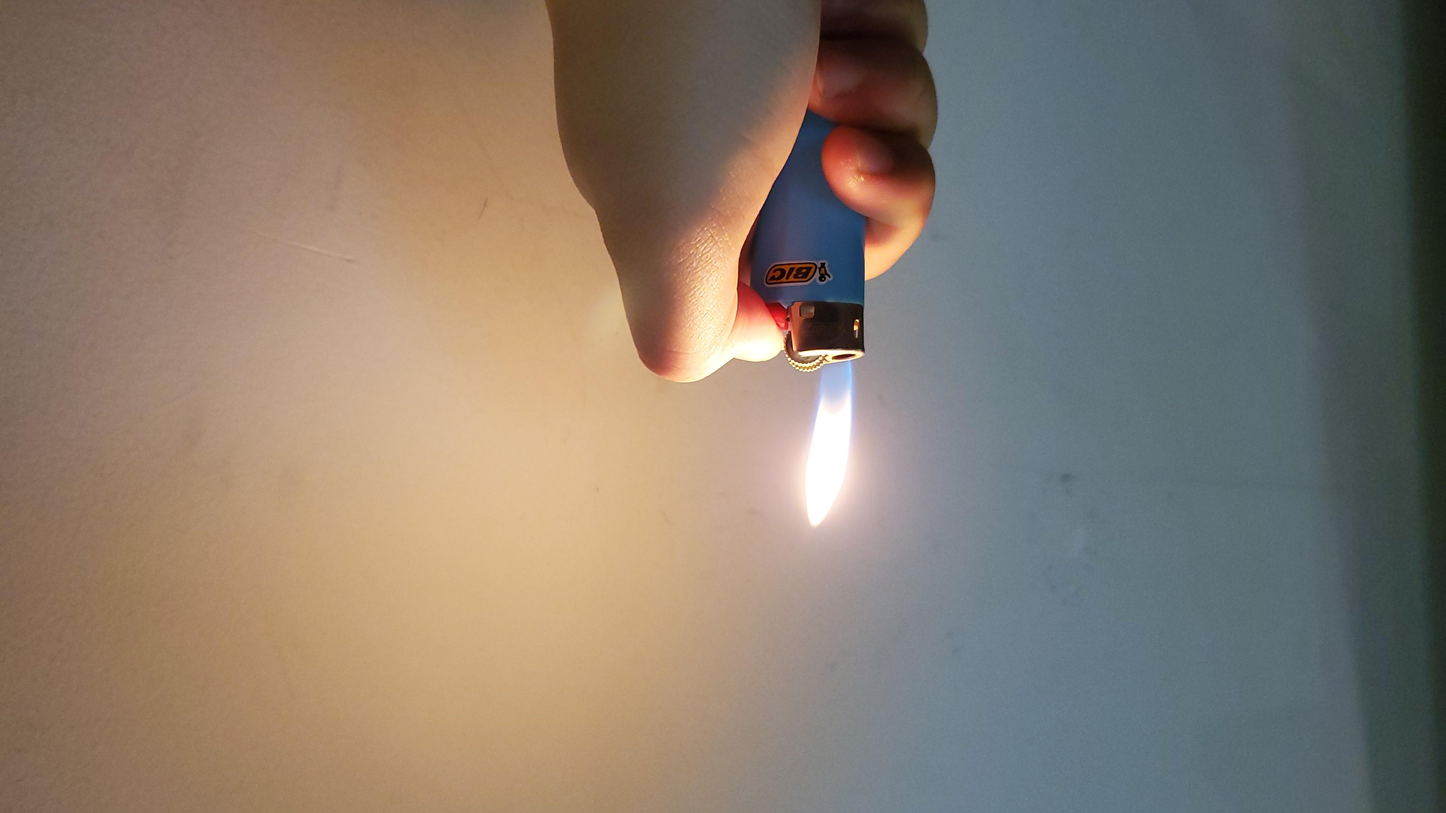fire: (590, 278, 654, 463)
